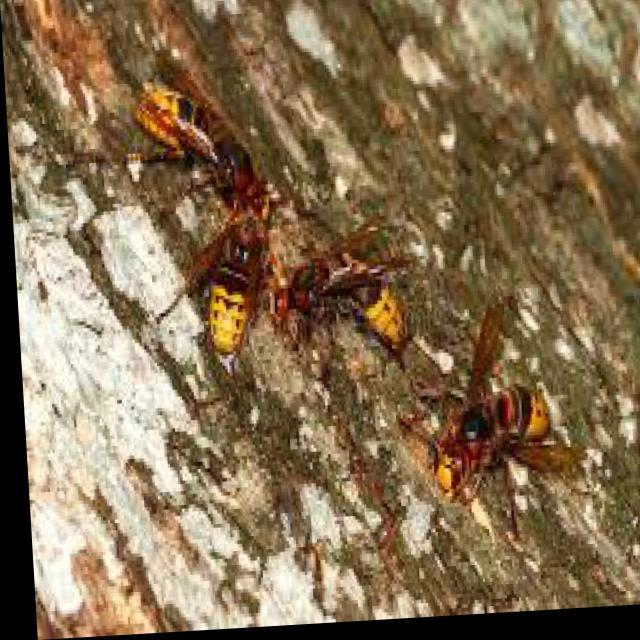Vespa Crabro: (411, 286, 576, 535), (92, 64, 287, 244), (265, 197, 427, 375), (177, 183, 283, 371)
